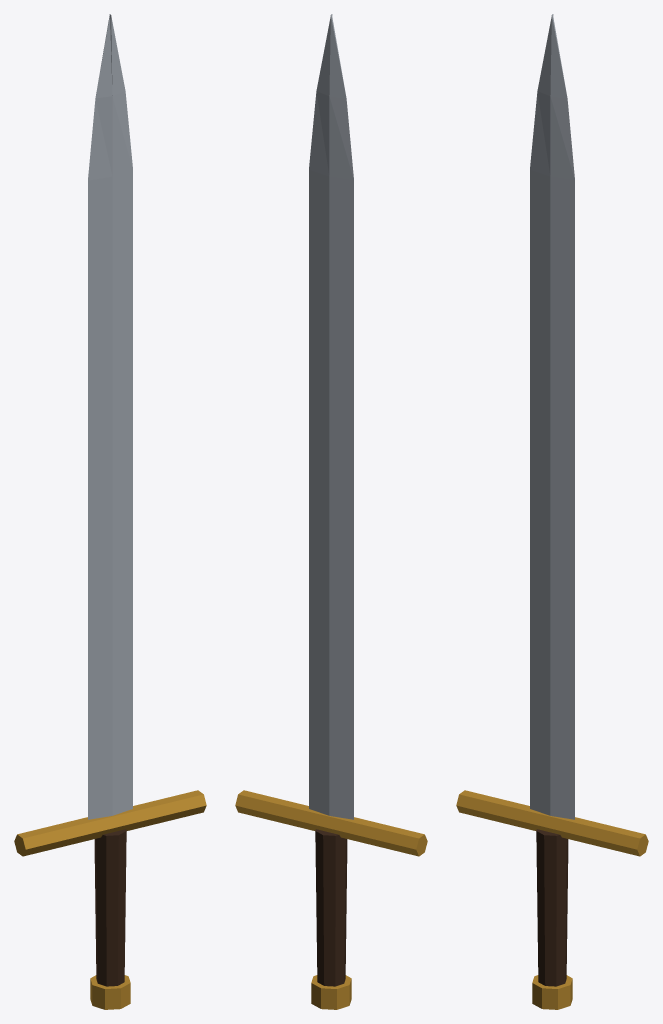
Rendered from g-longsword.glb.
The picture shows the model from 3 angles, left to right: view 1: azimuth 30°, elevation 25°; view 2: azimuth 150°, elevation 25°; view 3: azimuth 330°, elevation 25°; orthographic projection.
Visible parts, largest first — view 1: g-longsword; view 2: g-longsword; view 3: g-longsword.
Part boxes in pixels (x1,y1,x2,y2): g-longsword: (14,14,206,1009); g-longsword: (235,14,427,1009); g-longsword: (456,14,648,1009).
Size of the model in its own units: 0.2 by 1.04 by 0.04.
